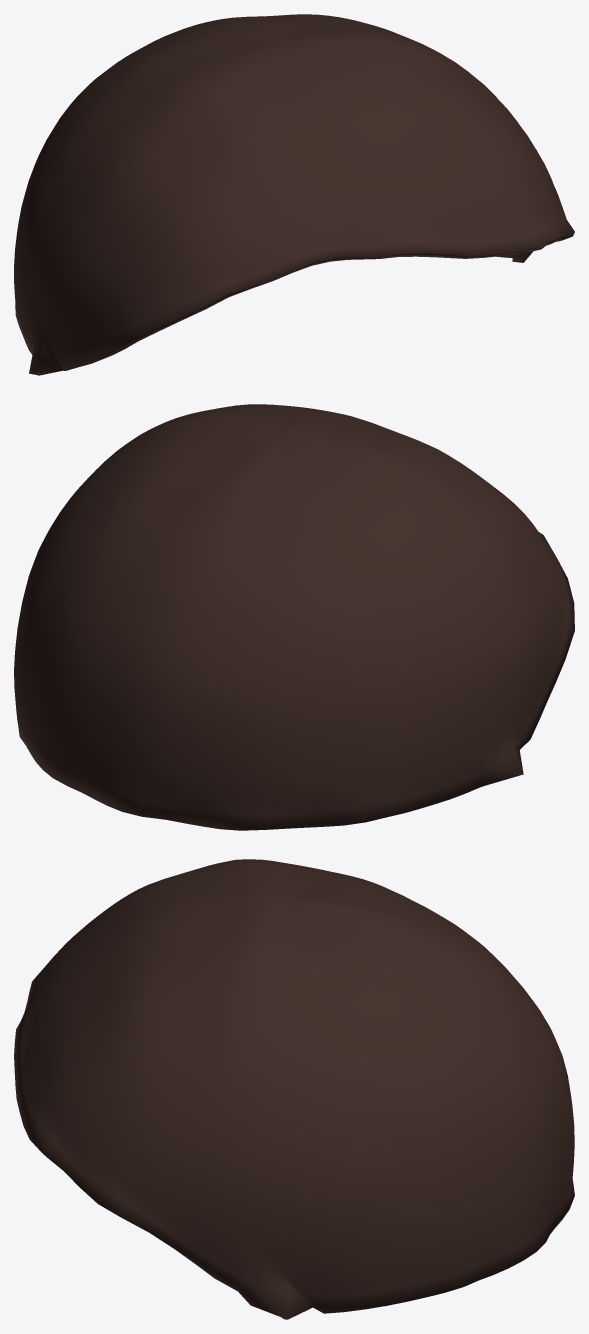
Rendered from 2HT-masculino.glb.
The picture shows the model from 3 angles, top to bottom: view 1: azimuth 30°, elevation 25°; view 2: azimuth 150°, elevation 25°; view 3: azimuth 270°, elevation 25°; orthographic projection. The views are drawn at different scales.
Visible parts, largest first — view 1: sculpted-scalp; view 2: sculpted-scalp; view 3: sculpted-scalp.
Part boxes in pixels (x1,y1,x2,y2): sculpted-scalp: (14,14,574,375); sculpted-scalp: (14,404,574,830); sculpted-scalp: (14,859,574,1319).
Bounding box in the file's own units: 0.0703 × 0.0386 × 0.0647.
